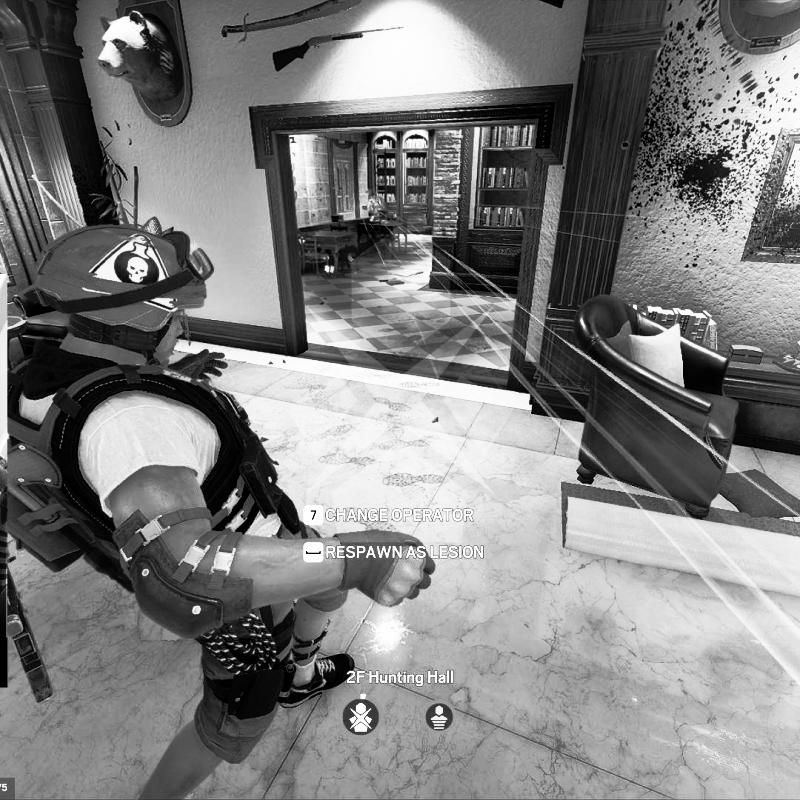Character: (0, 217, 442, 800), (366, 192, 384, 221)
Head: (28, 222, 216, 359)
